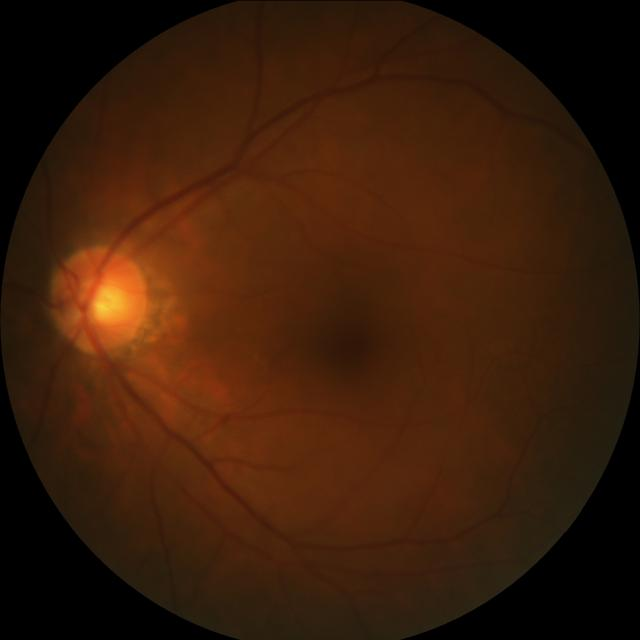OC: (79, 278, 122, 324)
OD: (46, 242, 150, 354)
